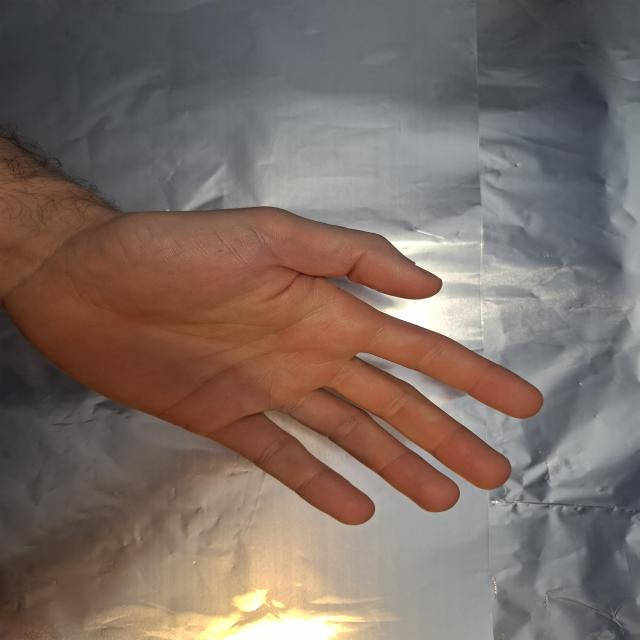glove_off: (17, 190, 547, 528)
